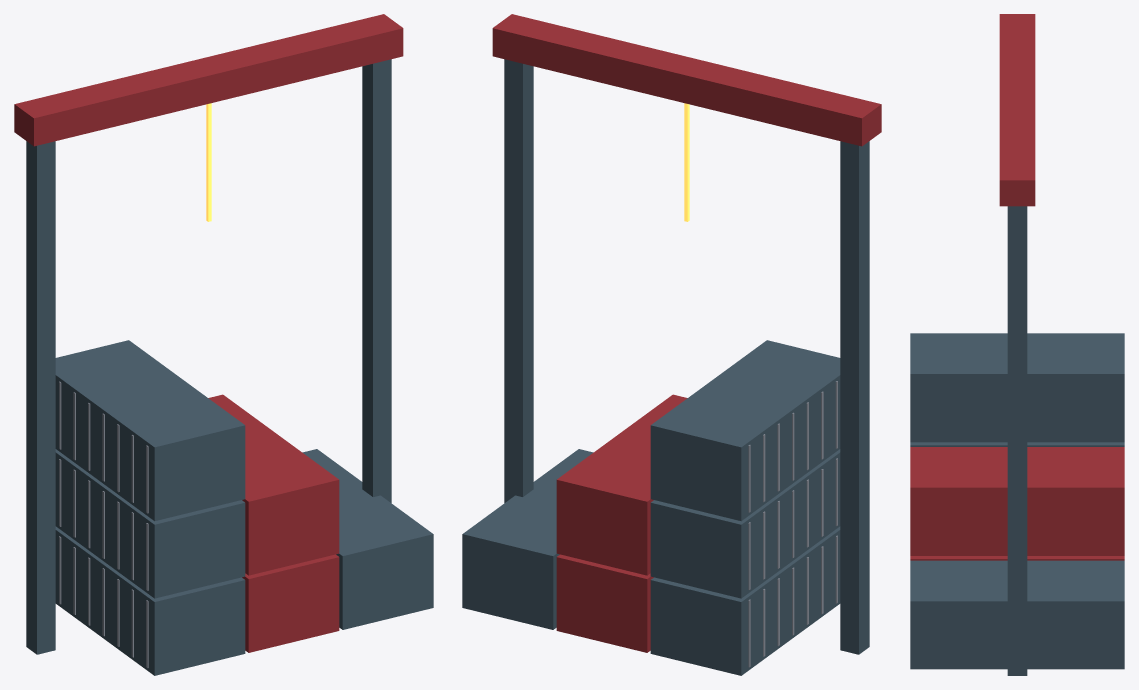
Rendered from harbour.glb.
3 renders of one model, left to right at view 1: azimuth 30°, elevation 25°; view 2: azimuth 150°, elevation 25°; view 3: azimuth 270°, elevation 25°, orthographic. The views are drawn at different scales.
Parts seen in each view (by area): view 1: Landmark; view 2: Landmark; view 3: Landmark.
Part boxes in pixels (<box>): Landmark: <box>14,14,433,675</box>; Landmark: <box>462,14,881,675</box>; Landmark: <box>910,14,1124,675</box>.
Size of the model in its own units: 11 by 15.4 by 6.
